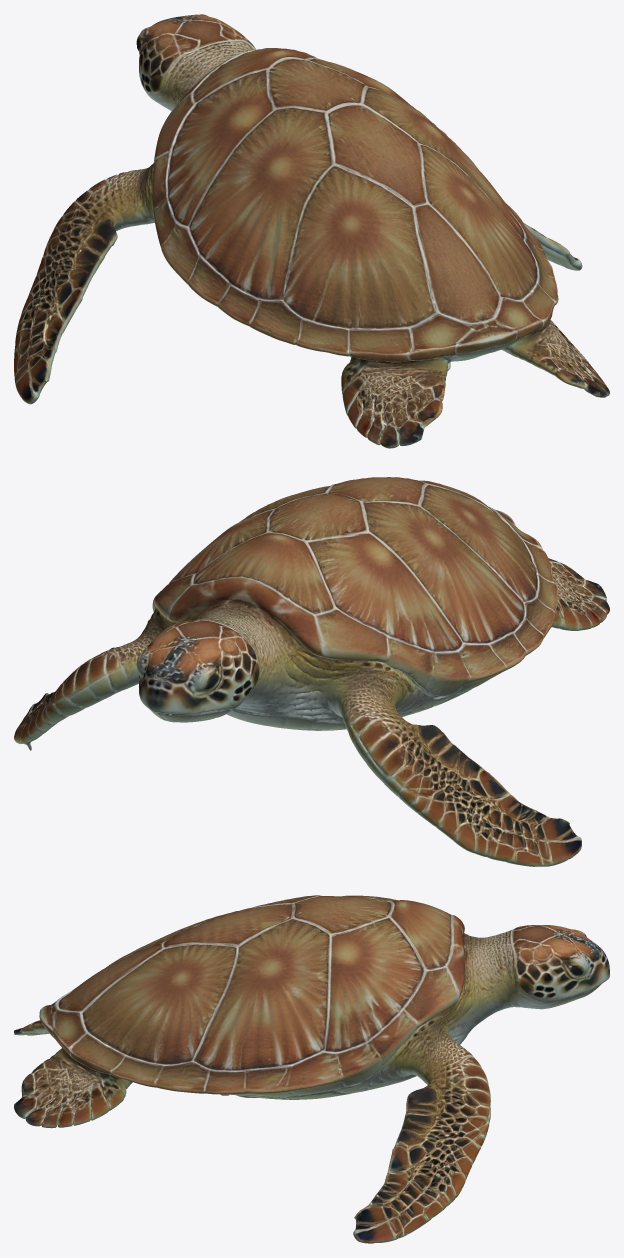
File: wugui.glb
3 views of the same model, one above another, from view 1: azimuth 30°, elevation 25°; view 2: azimuth 150°, elevation 25°; view 3: azimuth 270°, elevation 25° (orthographic). The views are drawn at different scales.
Visible parts, largest first — view 1: tripo_node_0a94a248-99d8-4c6a-aca1-57365b45c896; view 2: tripo_node_0a94a248-99d8-4c6a-aca1-57365b45c896; view 3: tripo_node_0a94a248-99d8-4c6a-aca1-57365b45c896.
Part boxes in pixels (bbox=[...]): tripo_node_0a94a248-99d8-4c6a-aca1-57365b45c896: bbox=[14, 14, 609, 448]; tripo_node_0a94a248-99d8-4c6a-aca1-57365b45c896: bbox=[14, 477, 609, 866]; tripo_node_0a94a248-99d8-4c6a-aca1-57365b45c896: bbox=[14, 895, 609, 1243].
Bounding box in the file's own units: 0.9047 × 0.4206 × 0.9995.
1 material, 1 textured.
